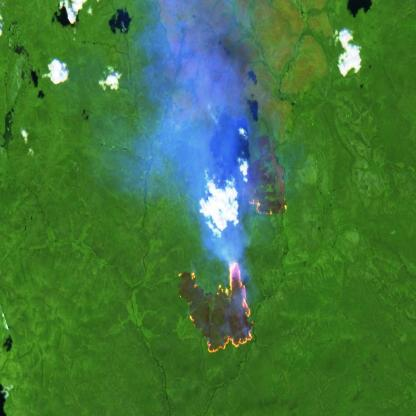fire: (176, 253, 257, 362), (246, 192, 288, 220)
